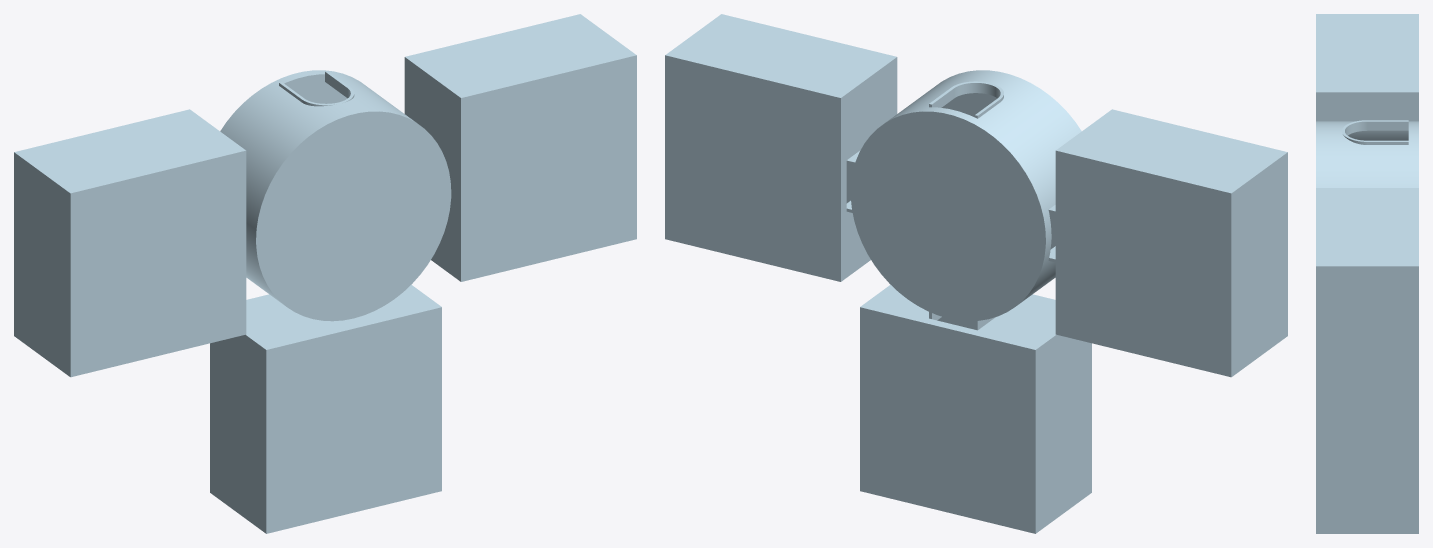
The model's file is Museum with three room modules.gltf.
3 views of the same model, side by side, from view 1: azimuth 30°, elevation 25°; view 2: azimuth 150°, elevation 25°; view 3: azimuth 270°, elevation 25° (orthographic). The views are drawn at different scales.
Visible parts, largest first — view 1: Part 1 (×4); view 2: Part 1 (×4); view 3: Part 1 (×4).
Part boxes in pixels (<box>): Part 1 (×4): <box>14,14,636,533</box>; Part 1 (×4): <box>665,14,1287,533</box>; Part 1 (×4): <box>1316,14,1418,533</box>.
Bounding box in the file's own units: 0.29 × 0.195 × 0.05.
